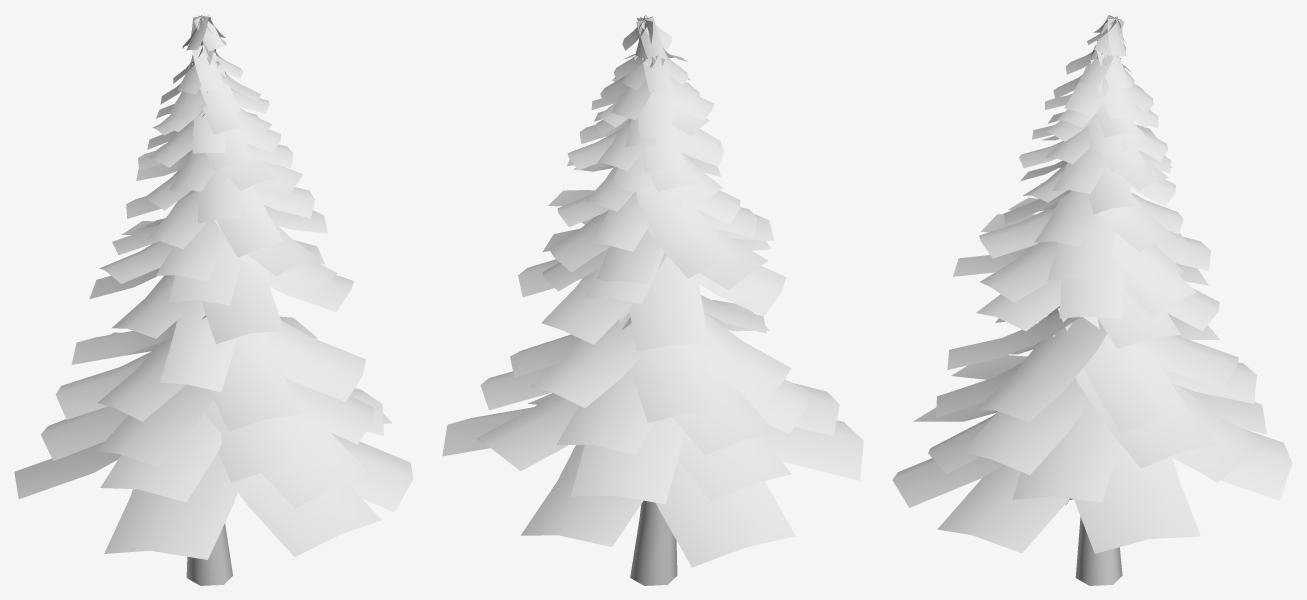
File: STPine1.glb
3 views of the same model, side by side, from view 1: azimuth 30°, elevation 25°; view 2: azimuth 150°, elevation 25°; view 3: azimuth 270°, elevation 25° (orthographic).
Visible parts, largest first — view 1: PineTree1; view 2: PineTree1; view 3: PineTree1.
Part boxes in pixels (bbox=[...]): PineTree1: bbox=[14, 14, 413, 585]; PineTree1: bbox=[442, 14, 863, 585]; PineTree1: bbox=[892, 15, 1292, 585].
Bounding box in the file's own units: 8.37 × 12.85 × 8.33.
Materials: 2 (1 with a texture image).
